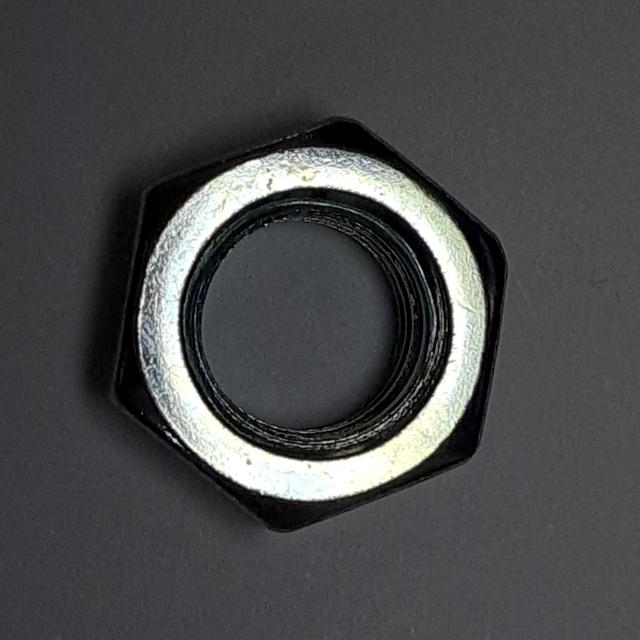Excellent: (96, 98, 525, 553)
